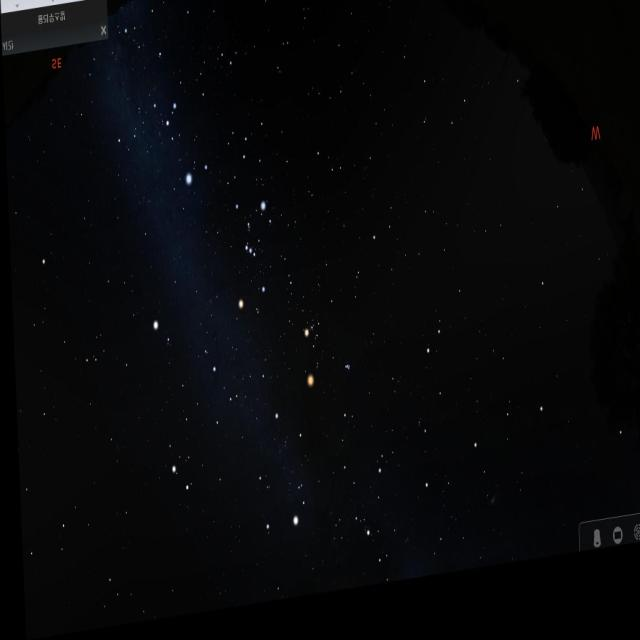canis_major: (164, 92, 212, 205)
canis_minor: (149, 312, 172, 358)
gemini: (153, 351, 240, 519)
orion: (225, 195, 275, 325)
pleiades: (339, 367, 350, 392)
taurus: (289, 292, 360, 401)
